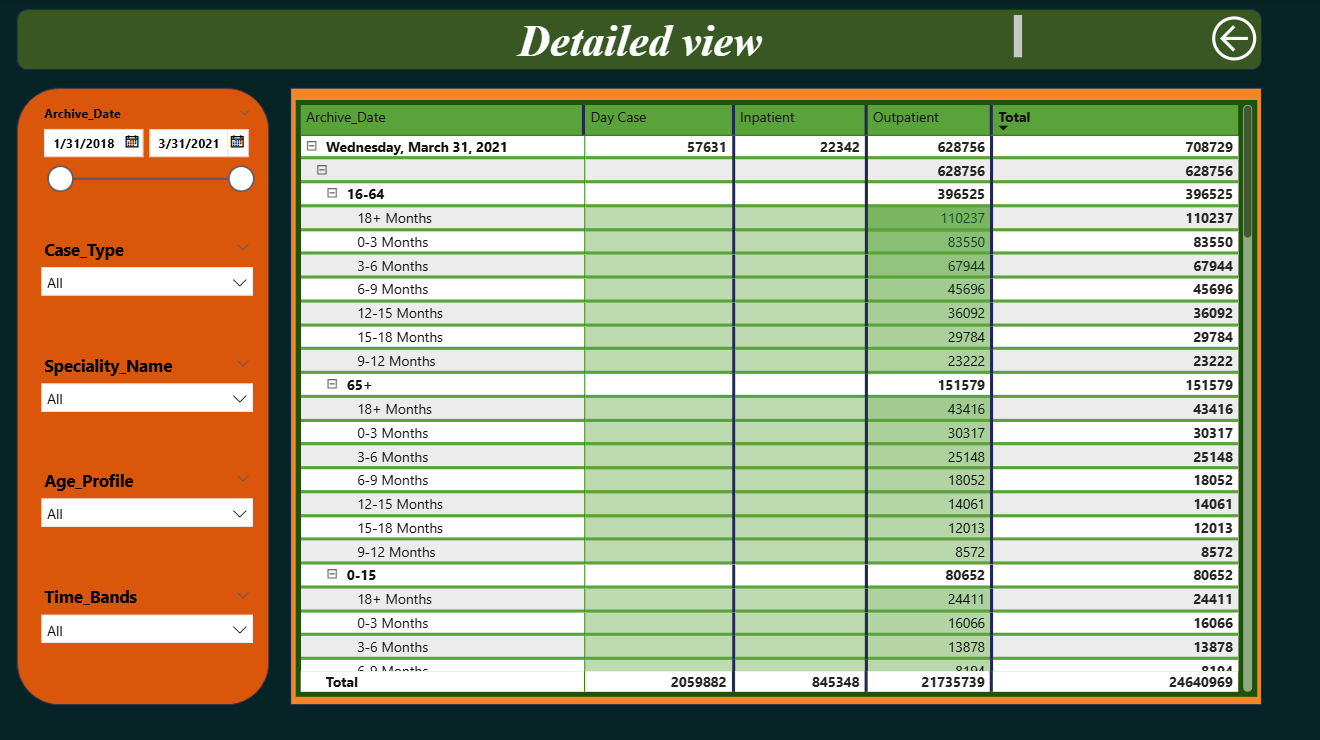

The dashboard page shown, as its layout file describes it:
{"tool":"powerbi","page":{"name":"Detail","canvas":[1280,720],"ordinal":1},"visuals":[{"type":"slicer","fields":{"Values":["All_Data.Archive_Date"]},"box":[32,96,224,112],"z":0},{"type":"slicer","fields":{"Values":["All_Data.Case_Type"]},"box":[32,224,224,96],"z":1000},{"type":"slicer","fields":{"Values":["All_Data.Speciality_Name"]},"box":[32,336,224,96],"z":2000},{"type":"textbox","box":[255.2,9.6,738.3,54.9],"z":3000},{"type":"slicer","fields":{"Values":["All_Data.Age_Profile"]},"box":[32,448,224,96],"z":4000},{"type":"slicer","fields":{"Values":["All_Data.Time_Bands"]},"box":[32,560,224,96],"z":5000},{"type":"pivotTable","fields":{"Rows":["All_Data.Archive_Date","All_Data.Specialty_Name","All_Data.Age_Profile","All_Data.Time_Bands"],"Columns":["All_Data.Case_Type"],"Values":["Sum(All_Data.Total)"]},"box":[288,96,928,576],"z":6000},{"type":"actionButton","box":[1166.4,9.6,100.2,54.9],"z":7000}]}

Visuals, with their boxes in screenshot pixels (x1, y1, x2, y2), scaled from the page's 1280x720 canvas onto the 1320x740 screenshot:
slicer - All_Data.Archive_Date: 33:99:264:214
slicer - All_Data.Case_Type: 33:230:264:329
slicer - All_Data.Speciality_Name: 33:345:264:444
textbox: 263:10:1025:66
slicer - All_Data.Age_Profile: 33:460:264:559
slicer - All_Data.Time_Bands: 33:576:264:674
pivotTable - All_Data.Archive_Date x All_Data.Specialty_Name: 297:99:1254:691
actionButton: 1203:10:1306:66
